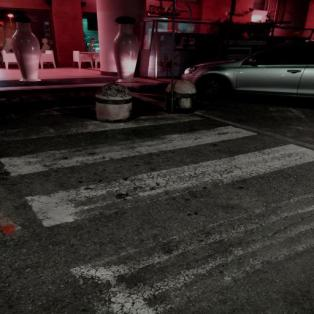Paso de Cebra: (1, 124, 314, 229)
